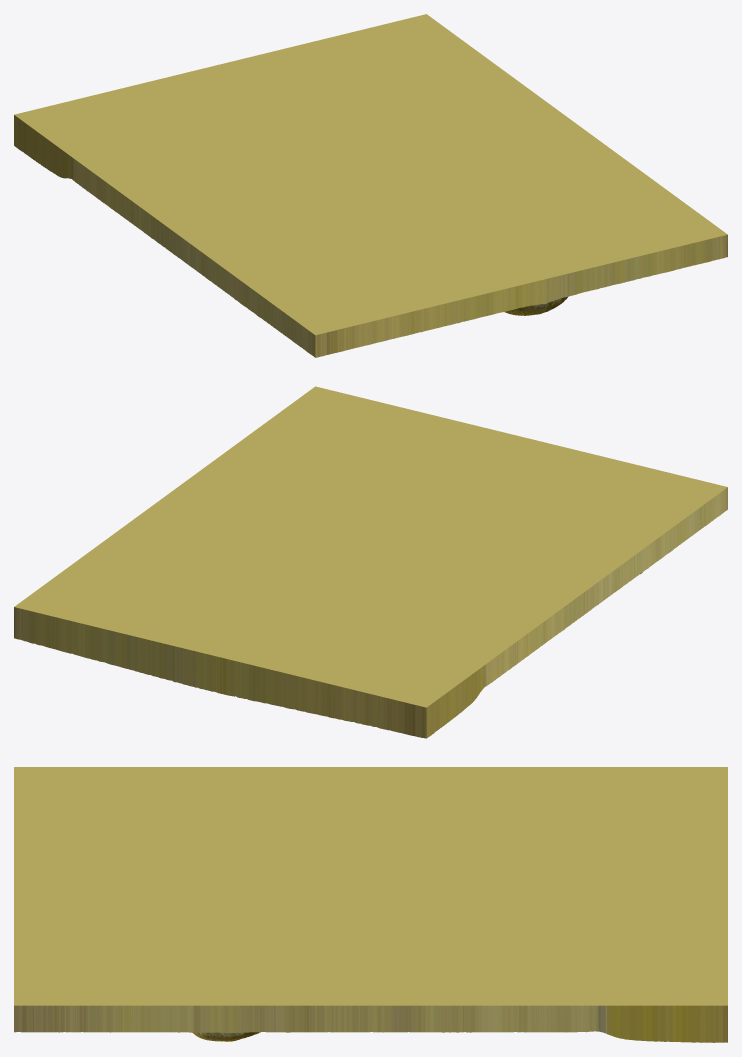
File: sunflowers.glb
3 renders of one model, top to bottom at view 1: azimuth 30°, elevation 25°; view 2: azimuth 150°, elevation 25°; view 3: azimuth 270°, elevation 25°, orthographic. The views are drawn at different scales.
Parts seen in each view (by area): view 1: Sunflowers by Van Gogh.stl; view 2: Sunflowers by Van Gogh.stl; view 3: Sunflowers by Van Gogh.stl.
Boxes of the visible parts, <box> form: Sunflowers by Van Gogh.stl: <box>14,14,727,357</box>; Sunflowers by Van Gogh.stl: <box>14,386,727,738</box>; Sunflowers by Van Gogh.stl: <box>14,767,727,1042</box>.
Size of the model in its own units: 100 by 17 by 127.
1 material, 1 textured.
